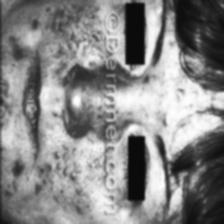Non-Cancerous Skin Condition: (0, 0, 105, 224), (144, 40, 222, 162)
